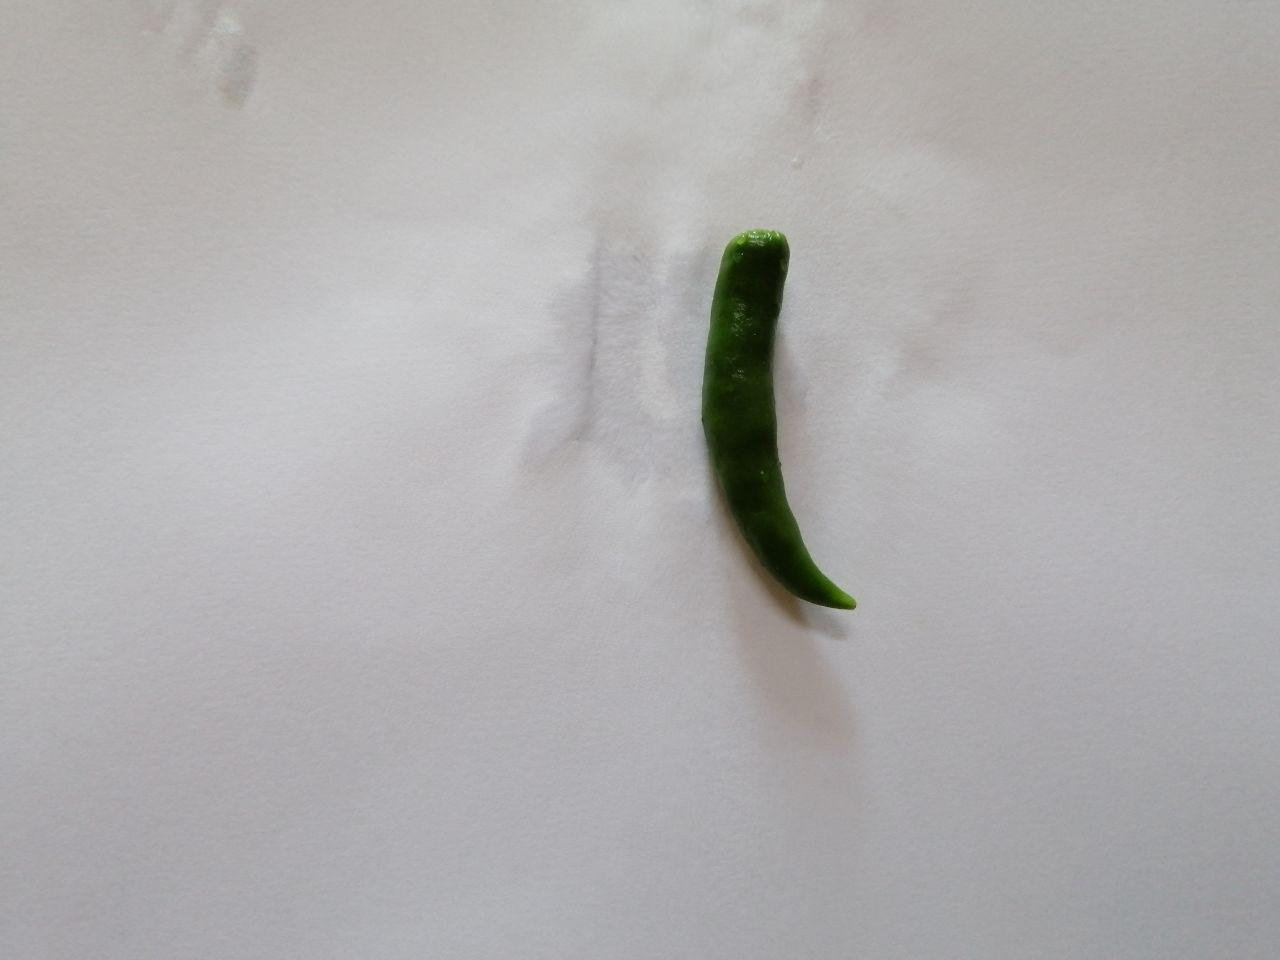lada hijau: (681, 217, 881, 634)
